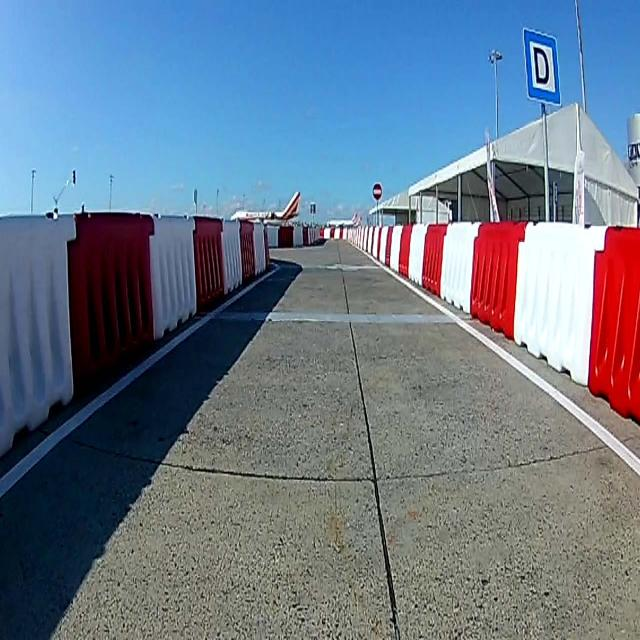durak: (524, 29, 560, 105)
girisyok: (371, 181, 383, 202)
